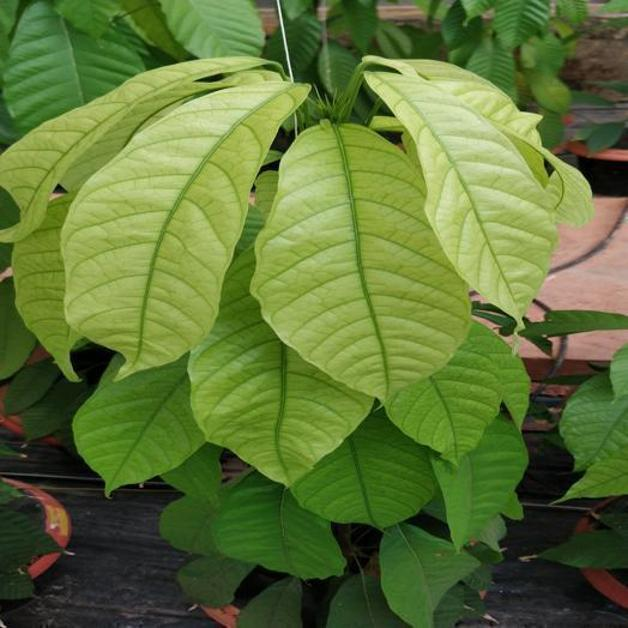Iron: (62, 82, 308, 377), (251, 122, 469, 399), (0, 57, 264, 241), (366, 72, 555, 323)
